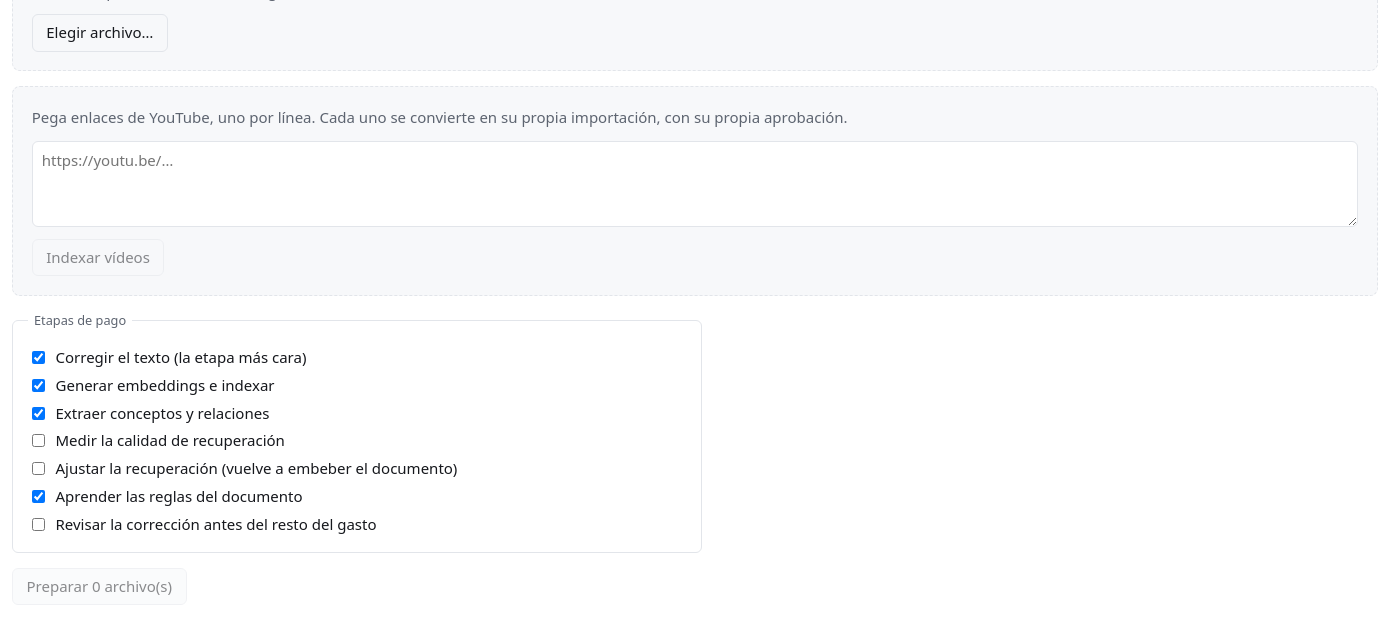
Test: staging a source before the ingest starts › does not start an ingest when staging failed
Click the button "Elegir archivo…".
click(100, 33)  # box [32,14,168,52]
(page scrolled)
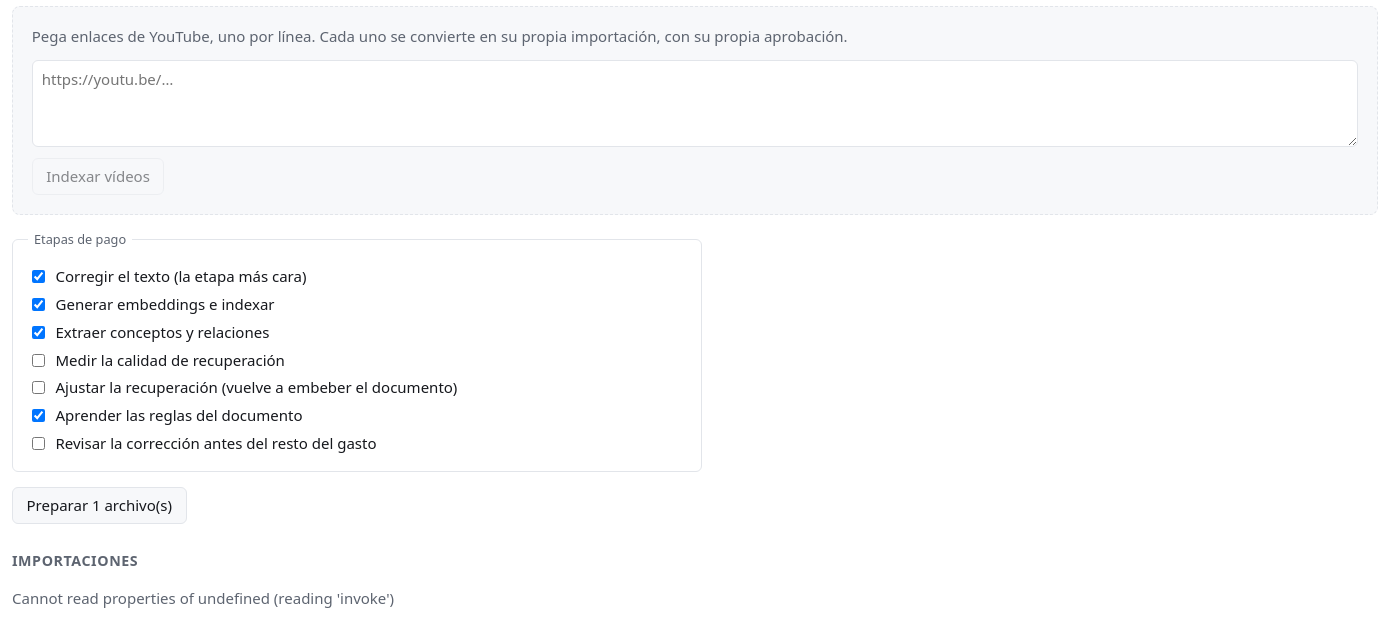
Result: the button "Preparar 1 archivo(s)" is enabled
Click the button "Preparar 1 archivo(s)".
click(99, 505)  # box [12,487,186,524]
(page scrolled)
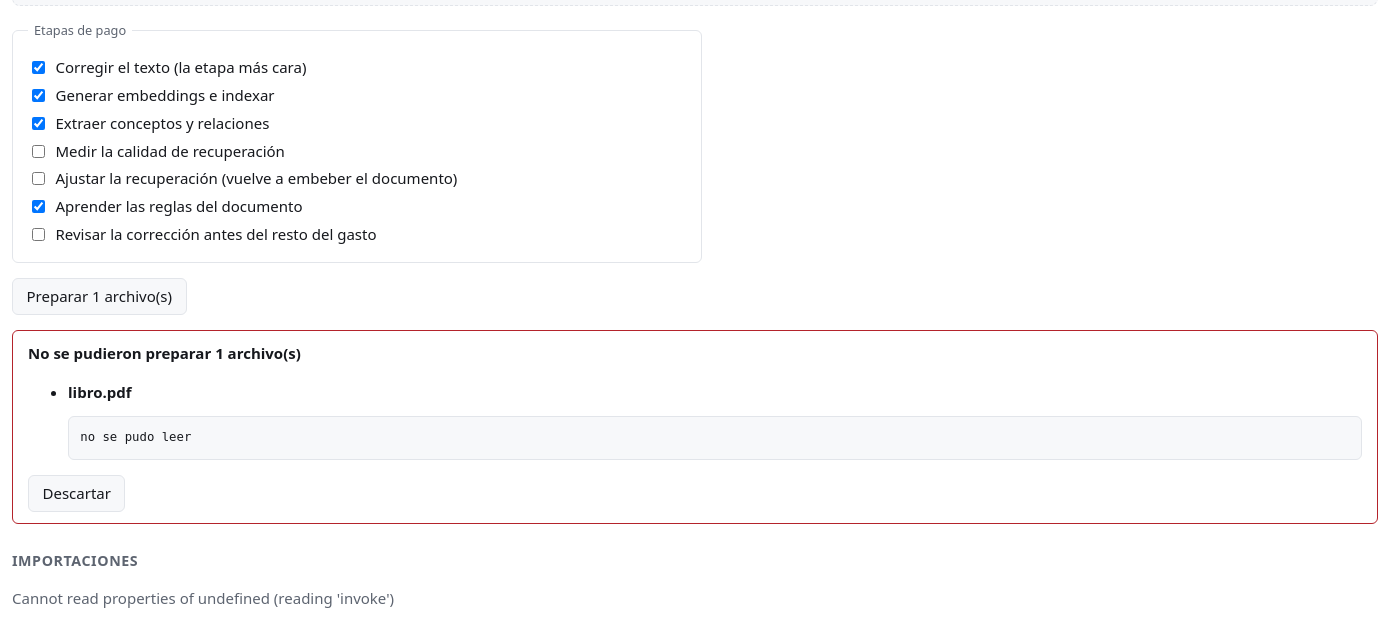
Result: the text "no se pudo leer" is shown at [68,416,1362,460]
